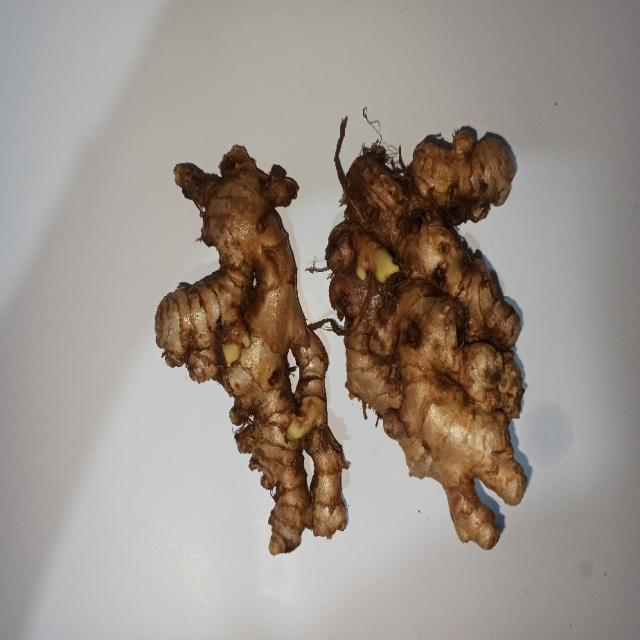ginger: (330, 124, 536, 557), (161, 154, 351, 541)
